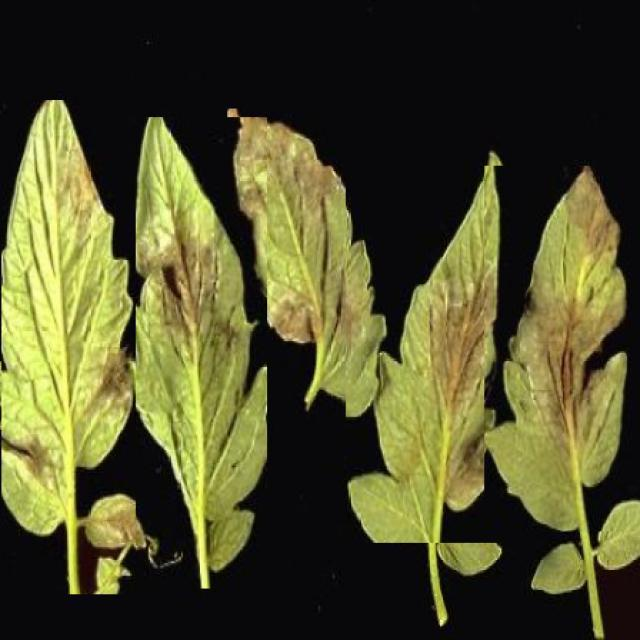Late Blight: (122, 118, 267, 588), (1, 100, 136, 594), (346, 138, 506, 543), (484, 166, 640, 531), (227, 109, 380, 422)
